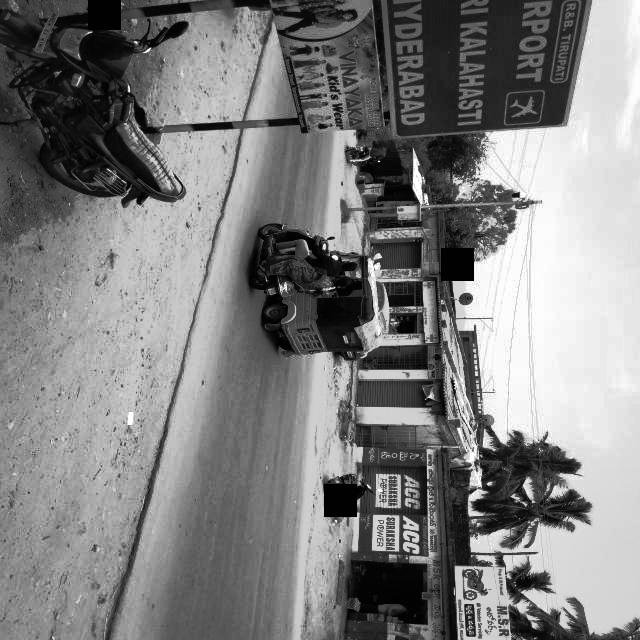Auto-Rickshaw: (273, 208, 393, 378)
